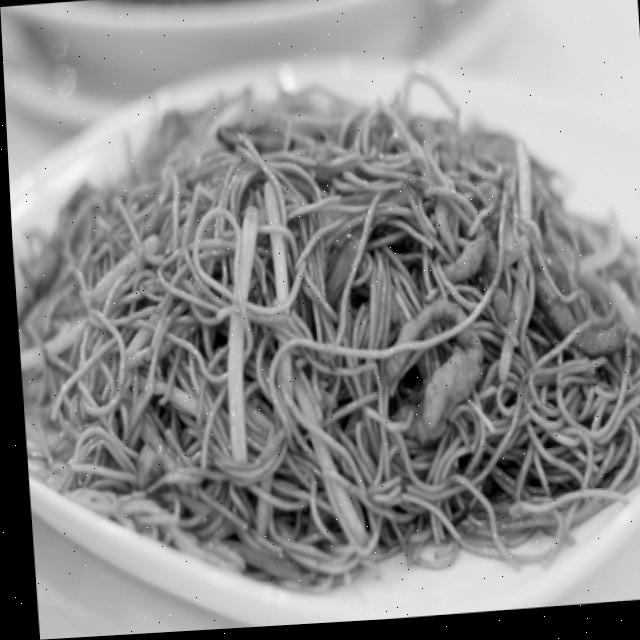面条主食: (4, 58, 640, 622)
